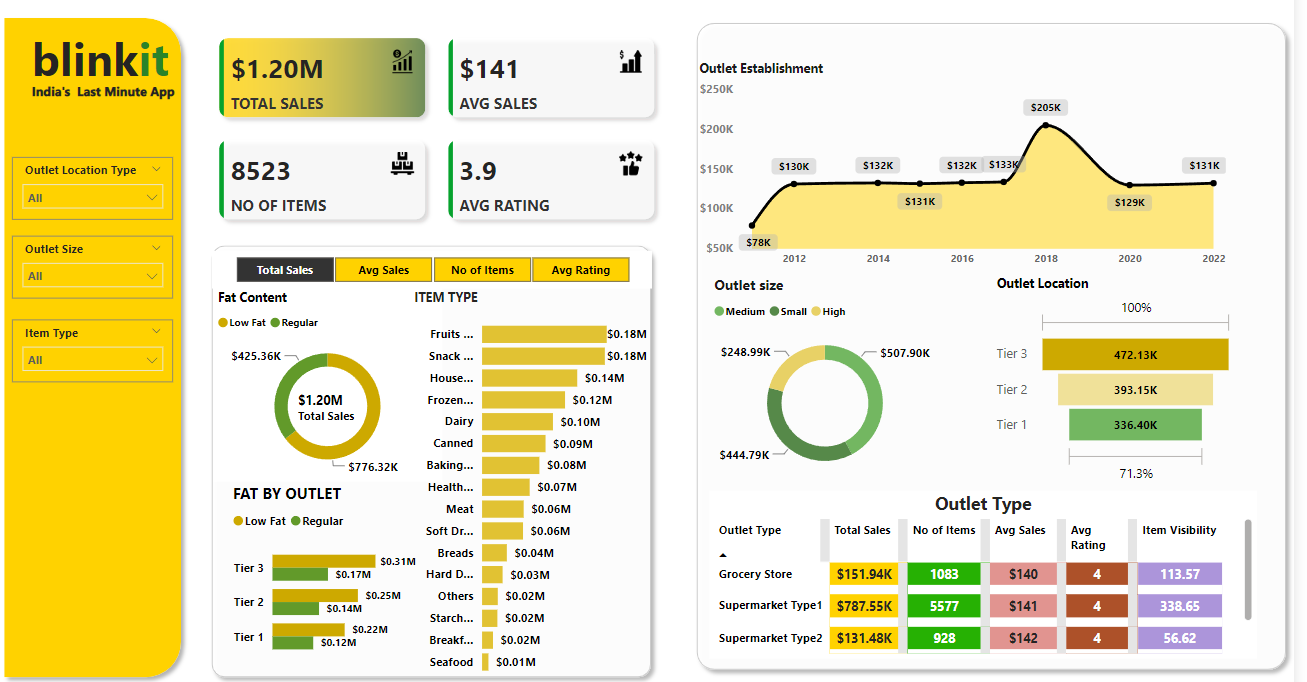

Layout of this report page (visuals, bound fields, positions):
{"tool":"powerbi","page":{"name":"Page 1","canvas":[1400,800],"ordinal":0},"visuals":[{"type":"shape","box":[25.1,45,205,715.6],"z":0},{"type":"textbox","box":[292.3,682.5,205,78],"z":1000},{"type":"textbox","box":[58.2,58.2,172,78],"z":2000},{"type":"textbox","box":[58.2,117.7,172,42.3],"z":3000},{"type":"cardVisual","fields":{"Data":["BlinkIT Grocery Data.Total Sales","BlinkIT Grocery Data.Avg Sales","BlinkIT Grocery Data.No of Items","BlinkIT Grocery Data.Avg Rating"]},"box":[244.7,58.2,494.7,226.2],"z":4000},{"type":"shape","box":[244.7,285.7,482.8,474.9],"z":5000},{"type":"donutChart","title":"Fat Content","fields":{"Y":["BlinkIT Grocery Data.Total Sales"],"Category":["BlinkIT Grocery Data.Item Fat Content"]},"box":[255.3,339.9,242.1,205],"z":6000},{"type":"slicer","fields":{"Values":["Metrics.Metrics"]},"box":[254,300.3,465.6,39.7],"z":7000},{"type":"cardVisual","fields":{"Data":["BlinkIT Grocery Data.Total Sales"]},"box":[328,423.3,97.9,84.7],"z":8000},{"type":"clusteredBarChart","title":"FAT BY OUTLET","fields":{"Y":["BlinkIT Grocery Data.Total Sales"],"Category":["BlinkIT Grocery Data.Outlet Location Type"],"Series":["BlinkIT Grocery Data.Item Fat Content"]},"box":[271.2,545,203.7,198.4],"z":9000},{"type":"barChart","title":"ITEM TYPE","fields":{"Y":["BlinkIT Grocery Data.Total Sales"],"Category":["BlinkIT Grocery Data.Item Type"]},"box":[463,339.9,256.6,419.3],"z":10000},{"type":"textbox","box":[738,286,483,475],"z":11000},{"type":"shape","box":[757.9,50.3,641.5,702.4],"z":12000},{"type":"lineChart","title":"Outlet Establishment ","fields":{"Y":["BlinkIT Grocery Data.Total Sales"],"Category":["BlinkIT Grocery Data.Outlet Establishment Year"]},"box":[764.6,97.9,567.5,227.5],"z":13000},{"type":"donutChart","title":"Outlet size","fields":{"Y":["BlinkIT Grocery Data.Total Sales"],"Category":["BlinkIT Grocery Data.Outlet Size"]},"box":[780.4,325.4,244.7,224.9],"z":14000},{"type":"funnel","title":"Outlet Location","fields":{"Y":["Sum(BlinkIT Grocery Data.Sales)"],"Category":["BlinkIT Grocery Data.Outlet Location Type"]},"box":[1079.4,325.4,260.6,226.2],"z":15000},{"type":"pivotTable","title":"Outlet Type","fields":{"Rows":["BlinkIT Grocery Data.Outlet Type"],"Values":["BlinkIT Grocery Data.Total Sales","BlinkIT Grocery Data.No of Items","BlinkIT Grocery Data.Avg Sales","BlinkIT Grocery Data.Avg Rating","Sum(BlinkIT Grocery Data.Item Visibility)"]},"box":[780.4,554.2,579.4,177.2],"z":16000},{"type":"slicer","fields":{"Values":["BlinkIT Grocery Data.Outlet Location Type"]},"box":[42.3,201.1,170.6,66.1],"z":17000},{"type":"slicer","fields":{"Values":["BlinkIT Grocery Data.Outlet Size"]},"box":[42.3,284.4,170.6,66.1],"z":17001},{"type":"slicer","fields":{"Values":["BlinkIT Grocery Data.Item Type"]},"box":[42.3,373,170.6,66.1],"z":17002}]}

Visuals, with their boxes on the page's 1400x800 design canvas (x1, y1, x2, y2). These are canvas units, not pixel positions in the 1307x682 screenshot, which may show the page scaled, cropped or inside an application window:
shape: (left=25, top=45, right=230, bottom=761)
textbox: (left=292, top=682, right=497, bottom=760)
textbox: (left=58, top=58, right=230, bottom=136)
textbox: (left=58, top=118, right=230, bottom=160)
cardVisual - BlinkIT Grocery Data.Total Sales x BlinkIT Grocery Data.Avg Sales: (left=245, top=58, right=739, bottom=284)
shape: (left=245, top=286, right=728, bottom=761)
"Fat Content" donutChart: (left=255, top=340, right=497, bottom=545)
slicer - Metrics.Metrics: (left=254, top=300, right=720, bottom=340)
cardVisual - BlinkIT Grocery Data.Total Sales: (left=328, top=423, right=426, bottom=508)
"FAT BY OUTLET" clusteredBarChart: (left=271, top=545, right=475, bottom=743)
"ITEM TYPE" barChart: (left=463, top=340, right=720, bottom=759)
textbox: (left=738, top=286, right=1221, bottom=761)
shape: (left=758, top=50, right=1399, bottom=753)
"Outlet Establishment " lineChart: (left=765, top=98, right=1332, bottom=325)
"Outlet size" donutChart: (left=780, top=325, right=1025, bottom=550)
"Outlet Location" funnel: (left=1079, top=325, right=1340, bottom=552)
"Outlet Type" pivotTable: (left=780, top=554, right=1360, bottom=731)
slicer - BlinkIT Grocery Data.Outlet Location Type: (left=42, top=201, right=213, bottom=267)
slicer - BlinkIT Grocery Data.Outlet Size: (left=42, top=284, right=213, bottom=350)
slicer - BlinkIT Grocery Data.Item Type: (left=42, top=373, right=213, bottom=439)
